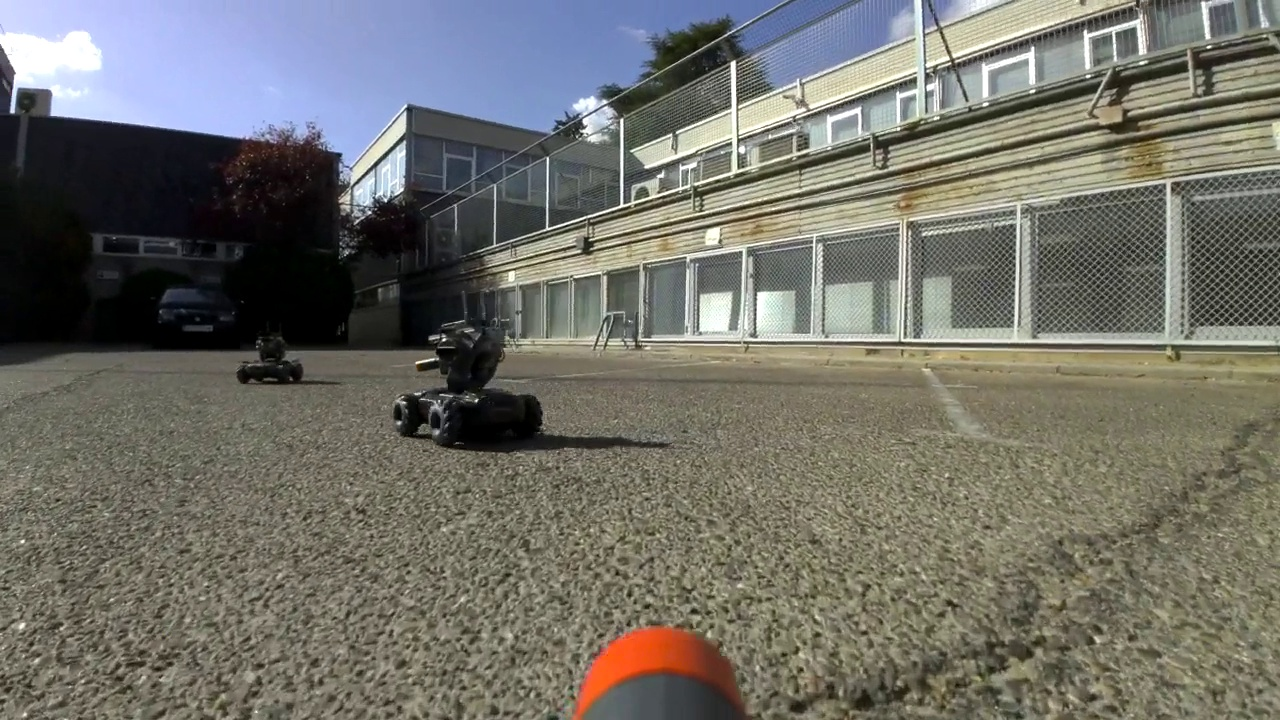robot: (394, 317, 546, 450), (236, 317, 302, 386)
